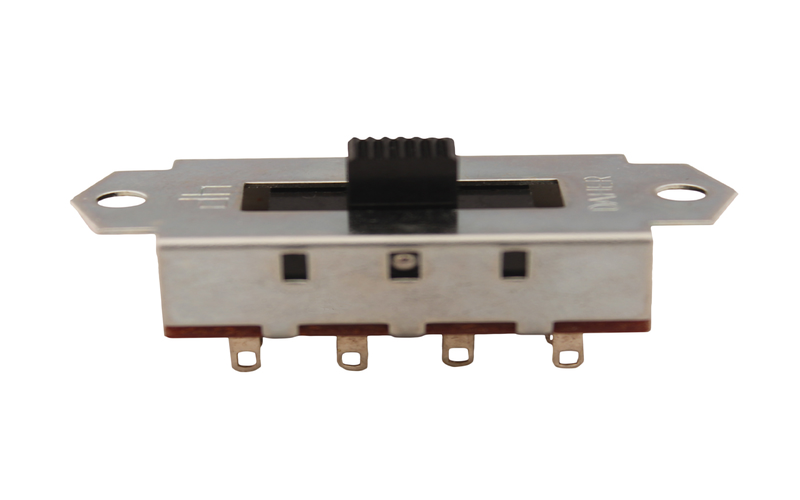Switches: (54, 101, 751, 403)
